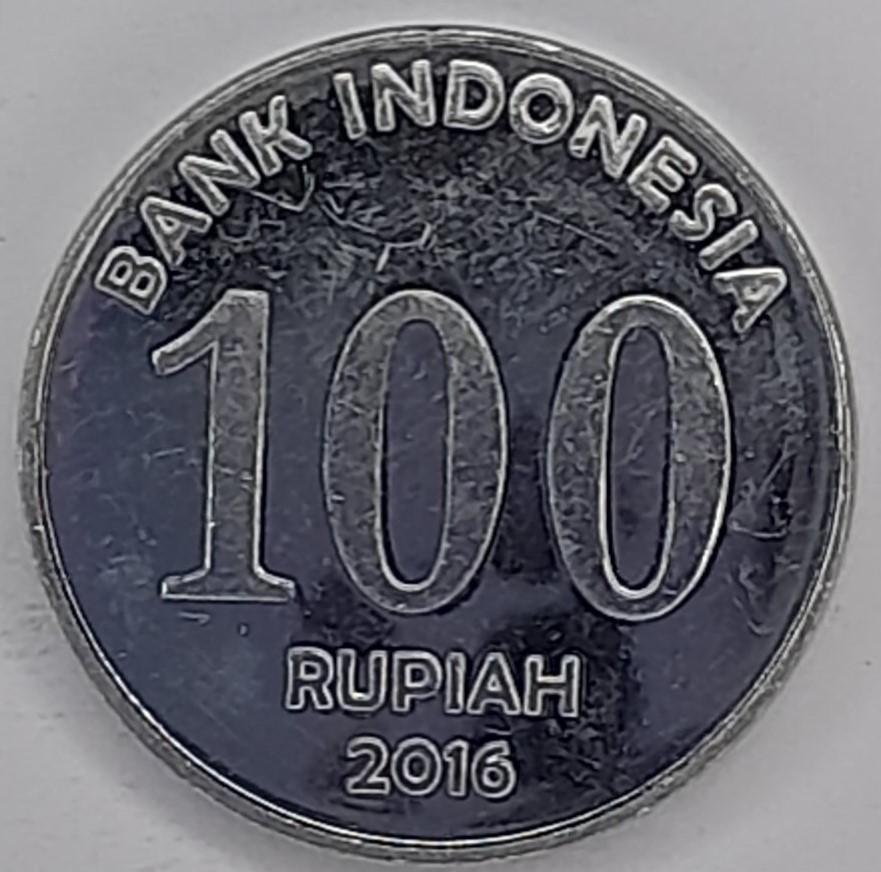coin_100_e2016: (12, 17, 862, 866)
